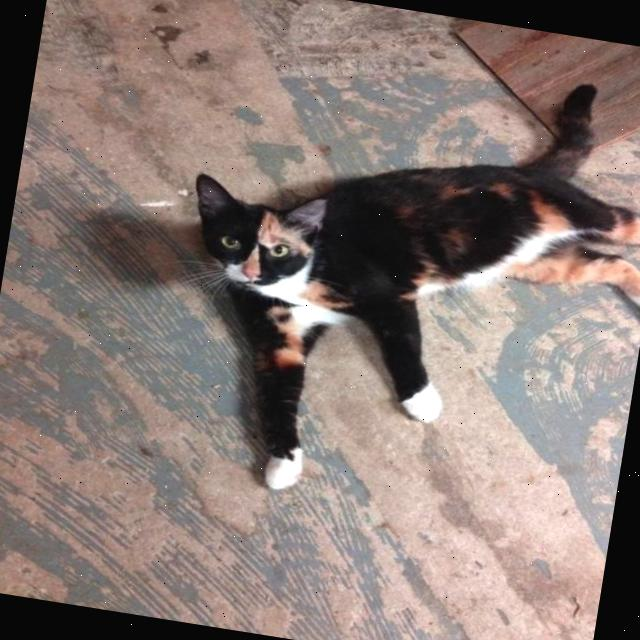calico_cat: (174, 168, 345, 316)
